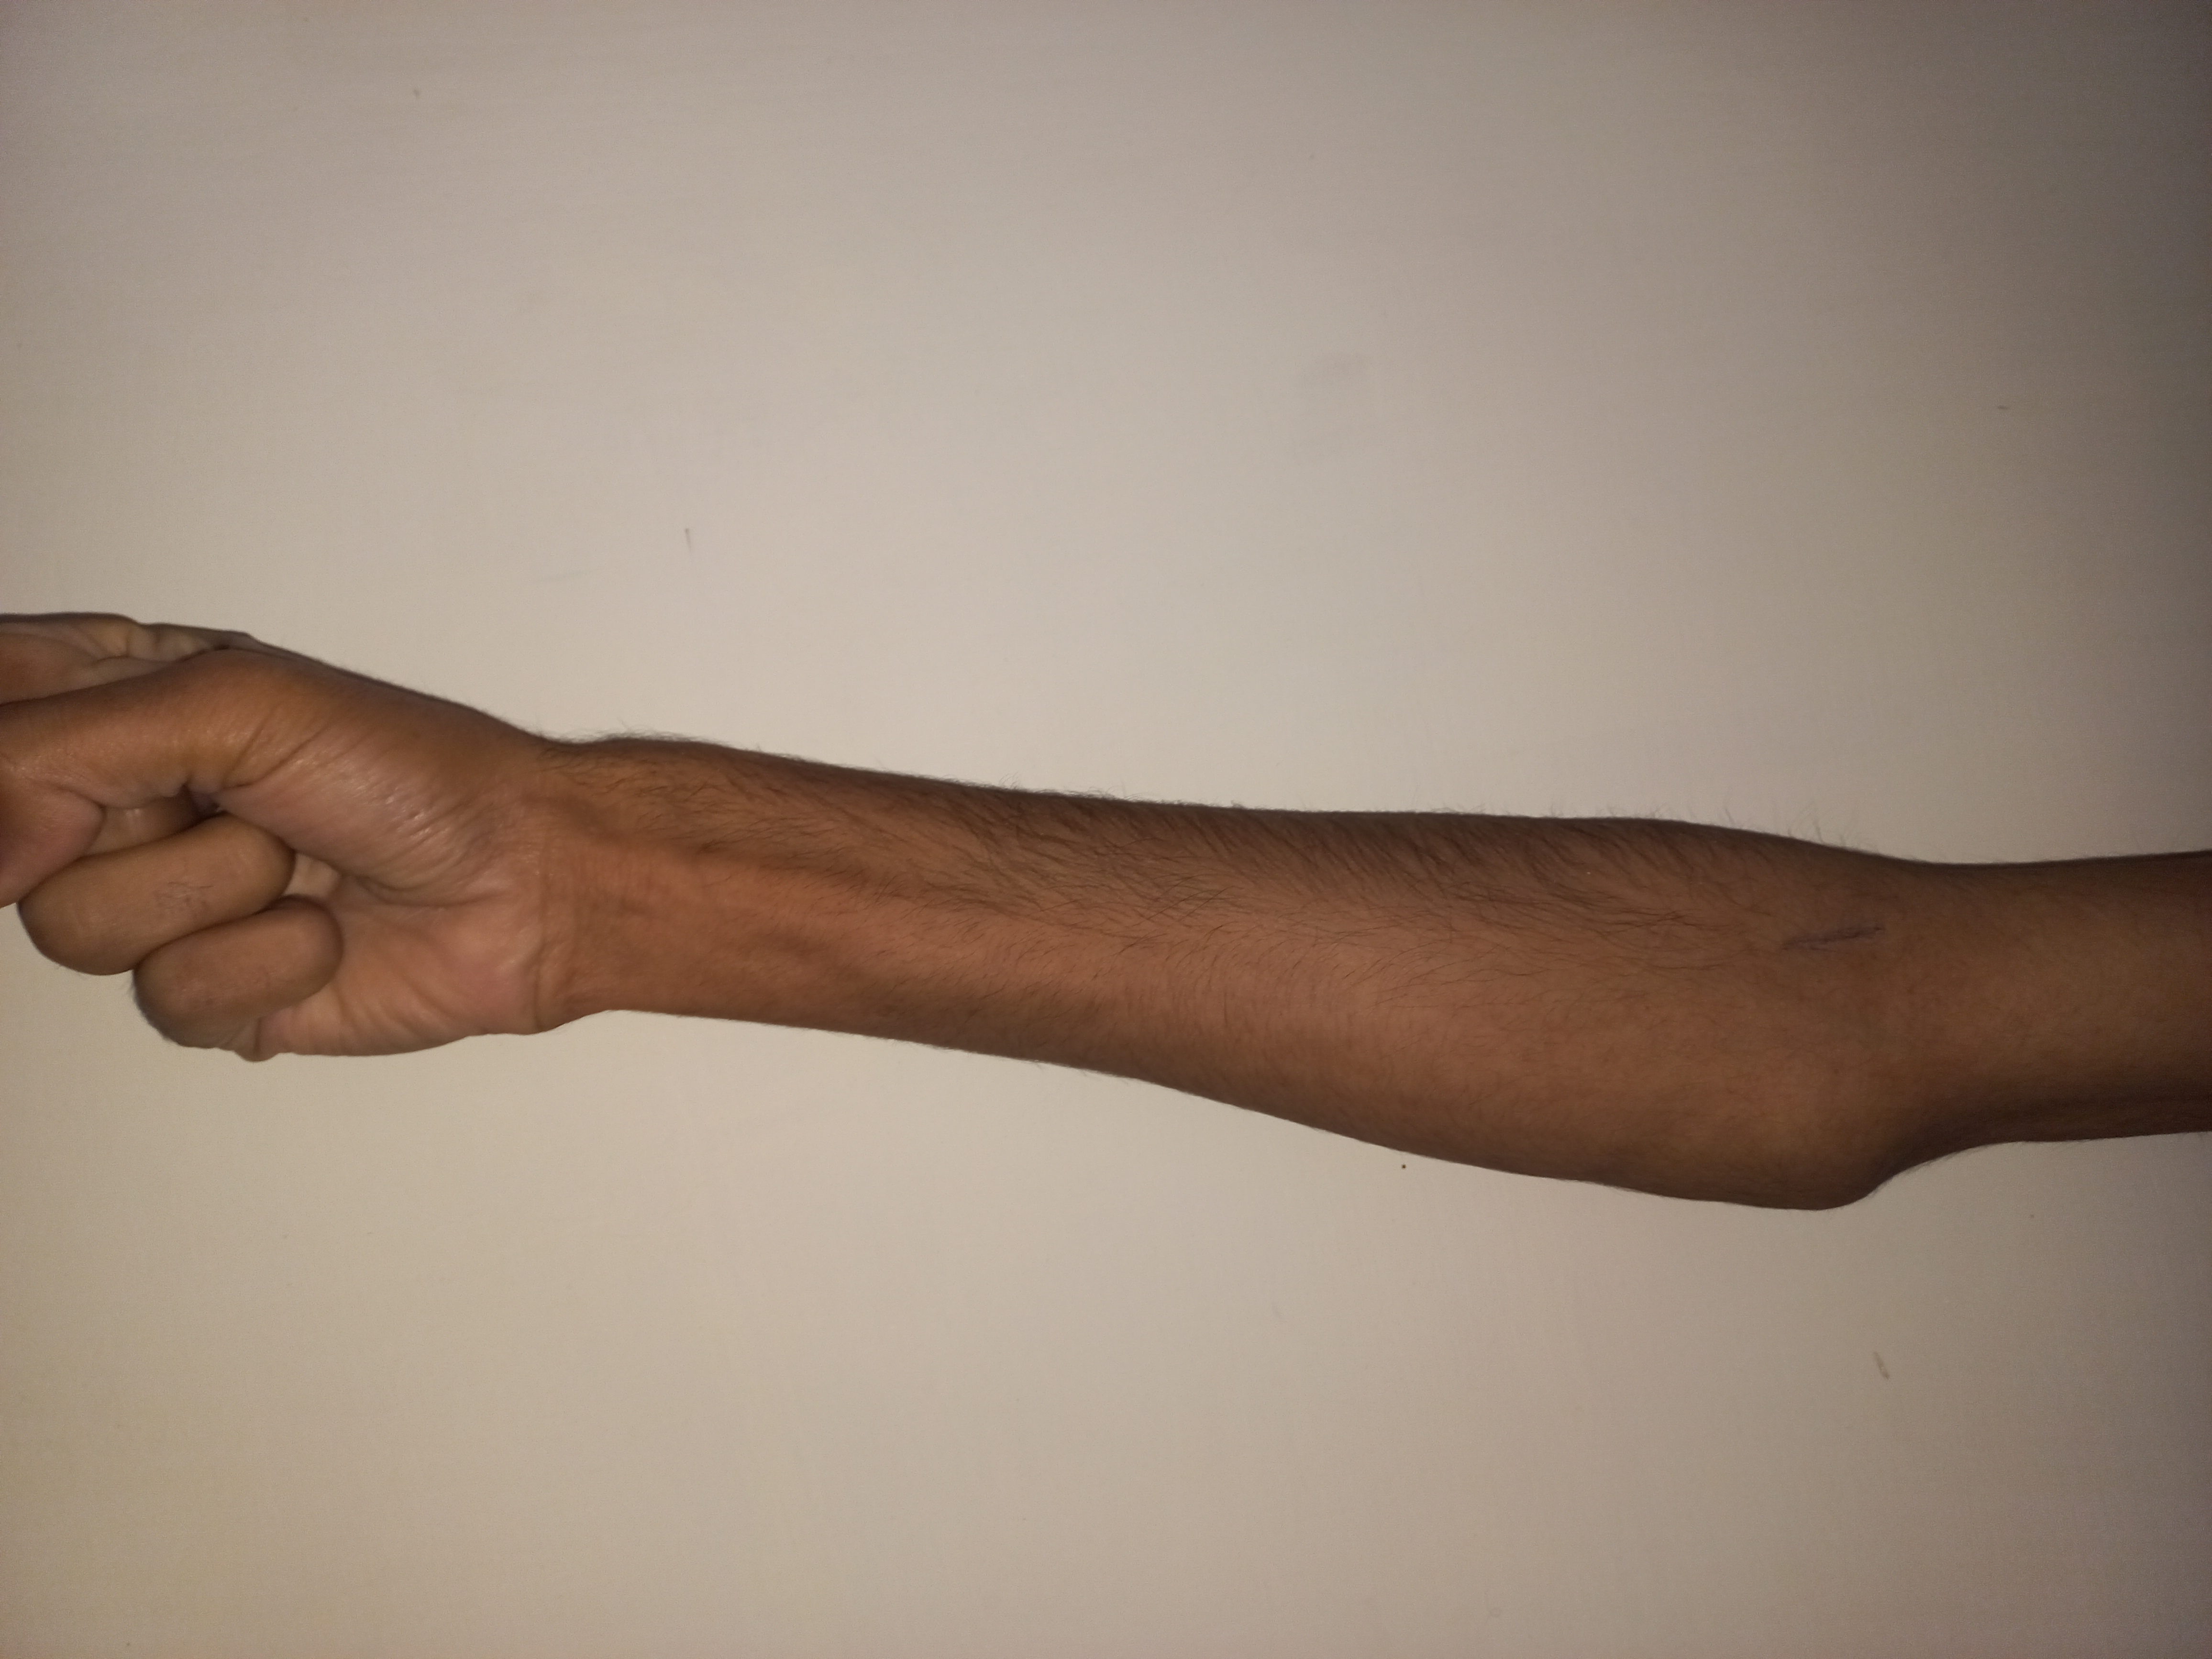vein: (1771, 911, 1905, 962)
